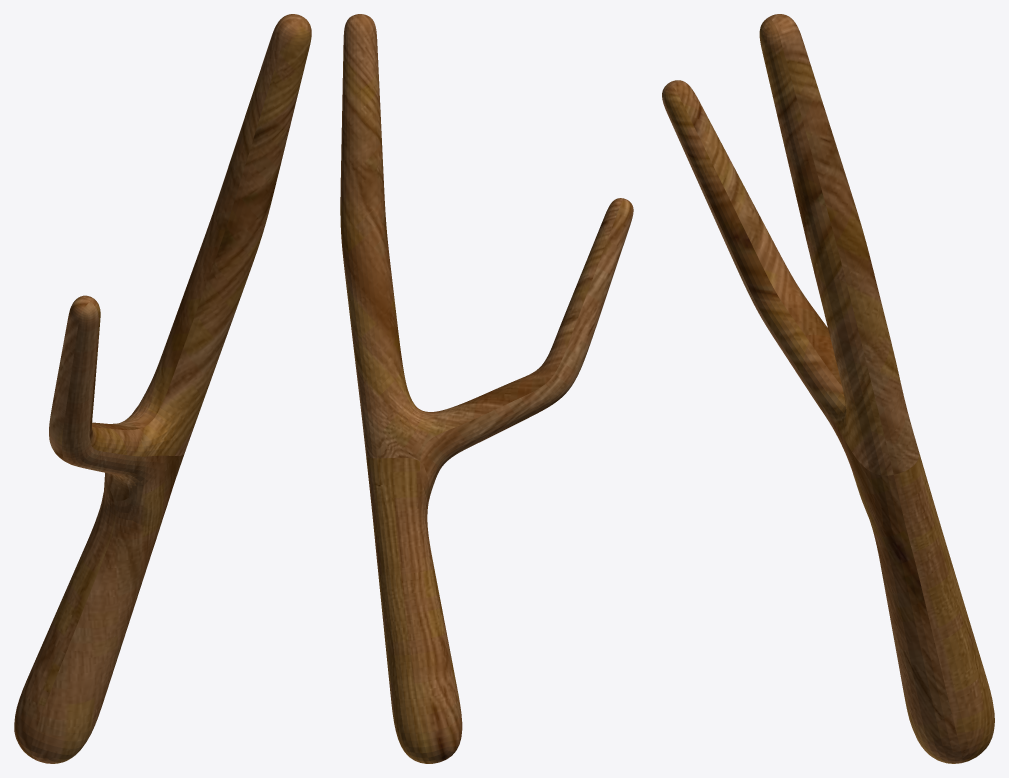
Rendered from Ranting.fbx.
The picture shows the model from 3 angles, left to right: view 1: azimuth 30°, elevation 25°; view 2: azimuth 150°, elevation 25°; view 3: azimuth 270°, elevation 25°; orthographic projection. The views are drawn at different scales.
Parts seen in each view (by area): view 1: Vert.008; view 2: Vert.008; view 3: Vert.008.
Boxes of the visible parts, x1,y1,x2,y2 form: Vert.008: [14, 14, 311, 763]; Vert.008: [340, 14, 633, 763]; Vert.008: [662, 14, 994, 763].
Bounding box in the file's own units: 31.16 × 80.24 × 29.23.
Materials: 1 (1 with a texture image).
